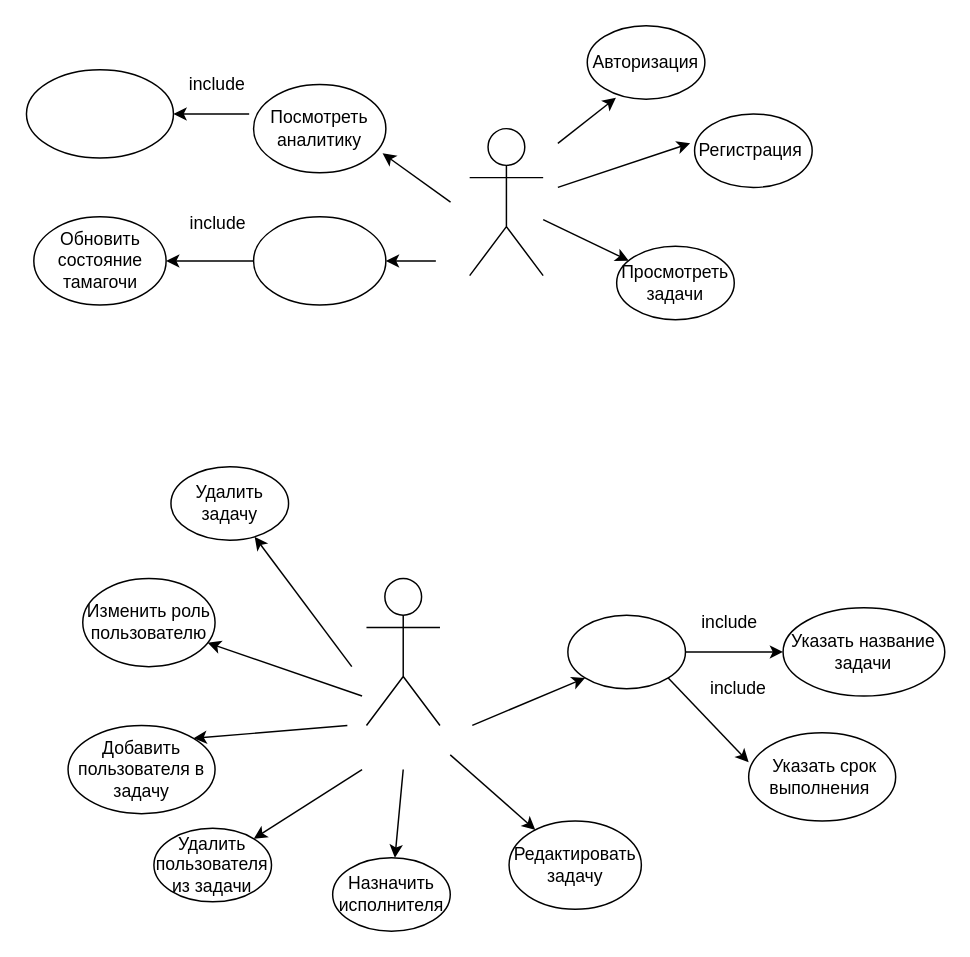
Image size: 970x957. Some labels were removed from this diagram. Each missing label, with the box of its shape:
Изменить статус задачи: (252, 215, 386, 305)
Модератор: (365, 577, 440, 725)
Пользователь: (468, 127, 543, 276)
Создать задачу: (566, 614, 685, 689)
Сформировать диаграмму Ганта: (25, 68, 173, 158)
